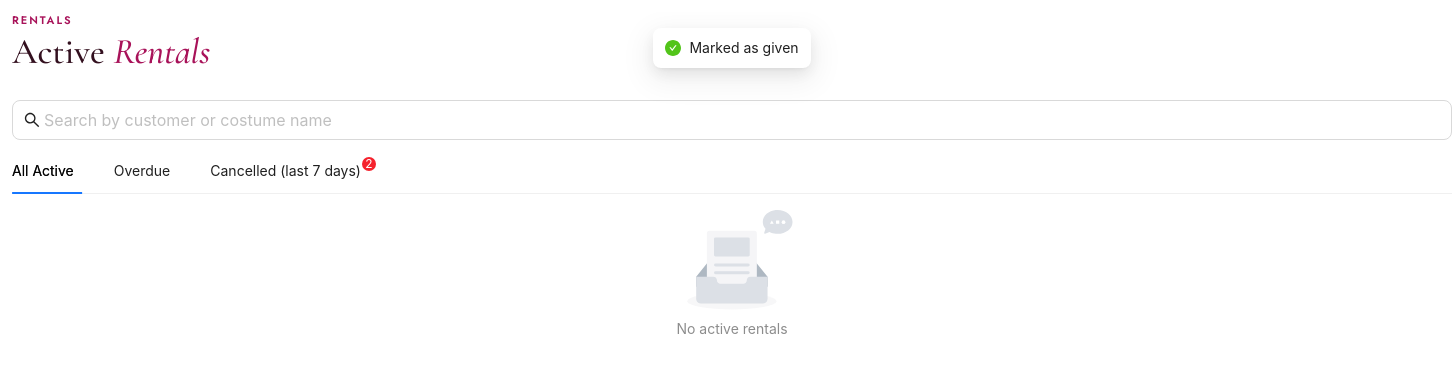
Test case: ReceiptsPage search by customer or costume name › applies the search to the Cancelled tab too
Step 1. Type "meera" into the field named "Search rentals" → [734, 120], box top-left (44, 108), bottom-right (1424, 132)
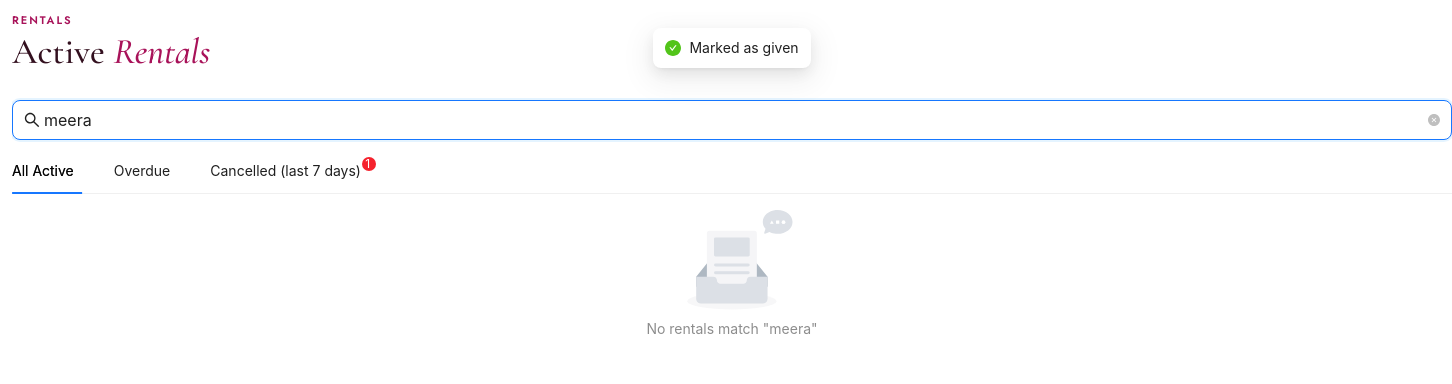
Step 2. Click the tab "Cancelled (last 7 days) 1 2" → [290, 171], box top-left (210, 160), bottom-right (369, 182)
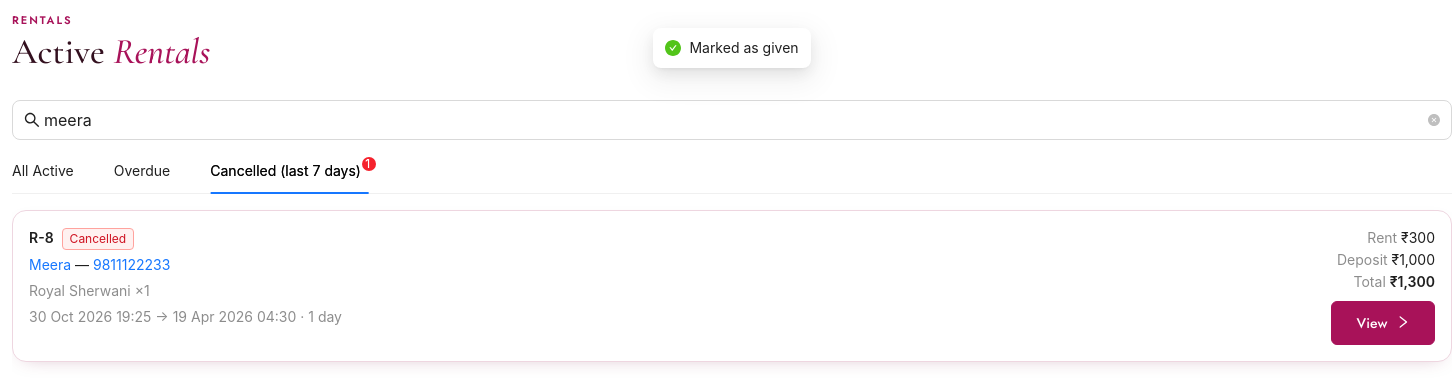
Expected: the text "R-8" is shown, top-left (29, 229), bottom-right (54, 246)
